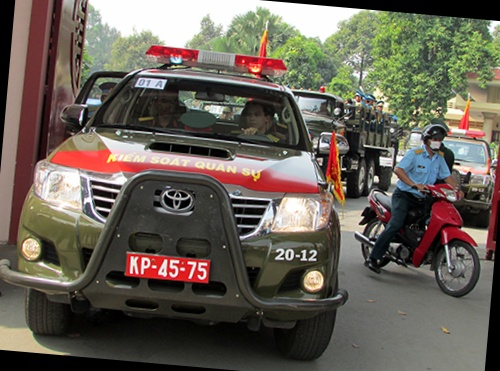plate: (125, 248, 206, 285)
